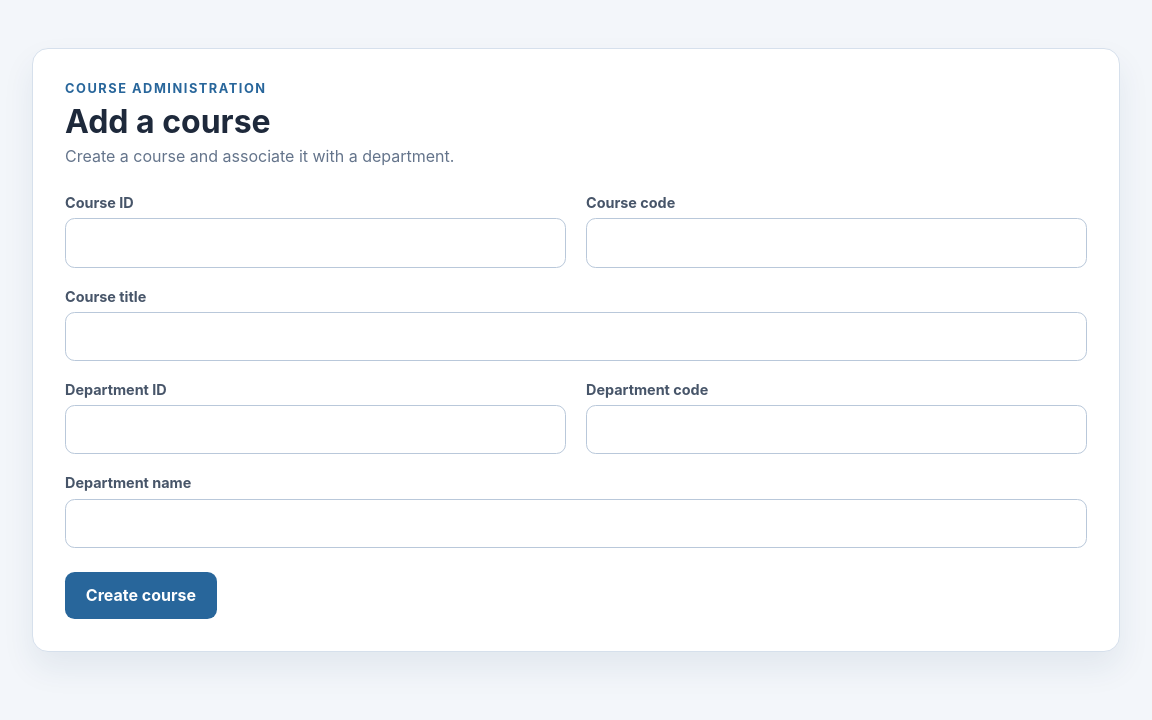
Test: CourseForm › submits the course and reports successful creation
The width and height of the screenshot is (1152, 720).
Type "9011" into the number field labelled "Course ID" at (316, 243), box [65,218,566,268]
Type "TEST101" into the field labelled "Course code" at (836, 243), box [586,218,1087,268]
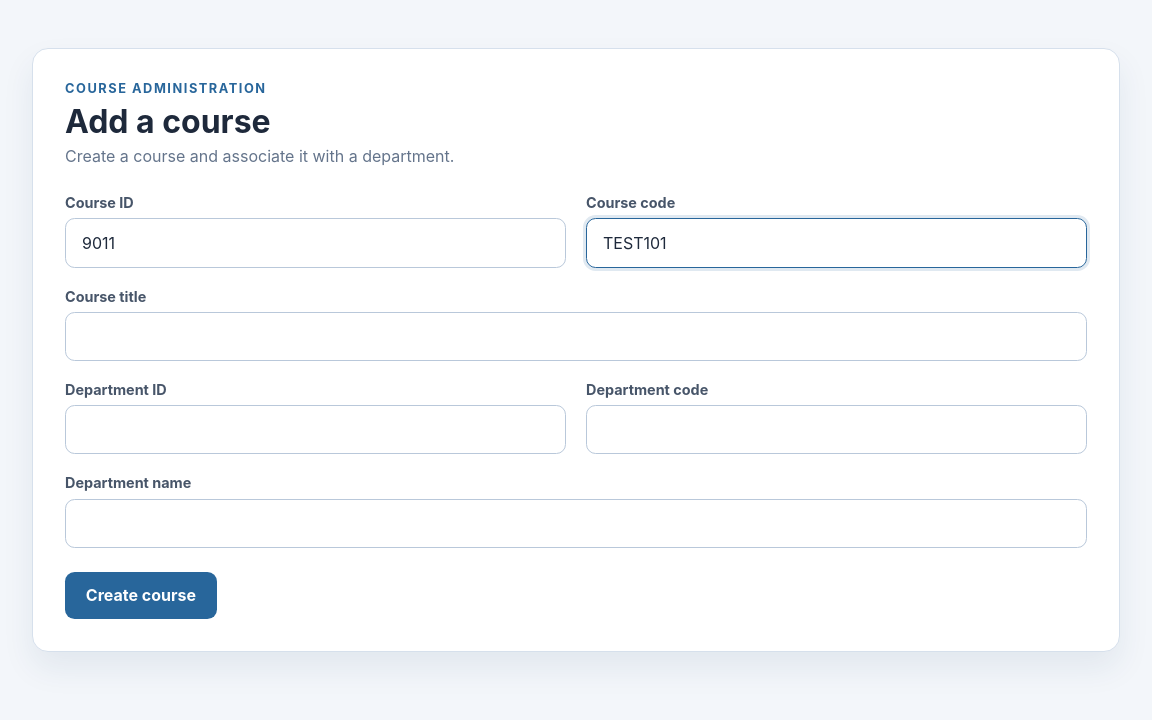
Type "Frontend Testing" into the field labelled "Course title" at (576, 336), box [65,312,1087,361]
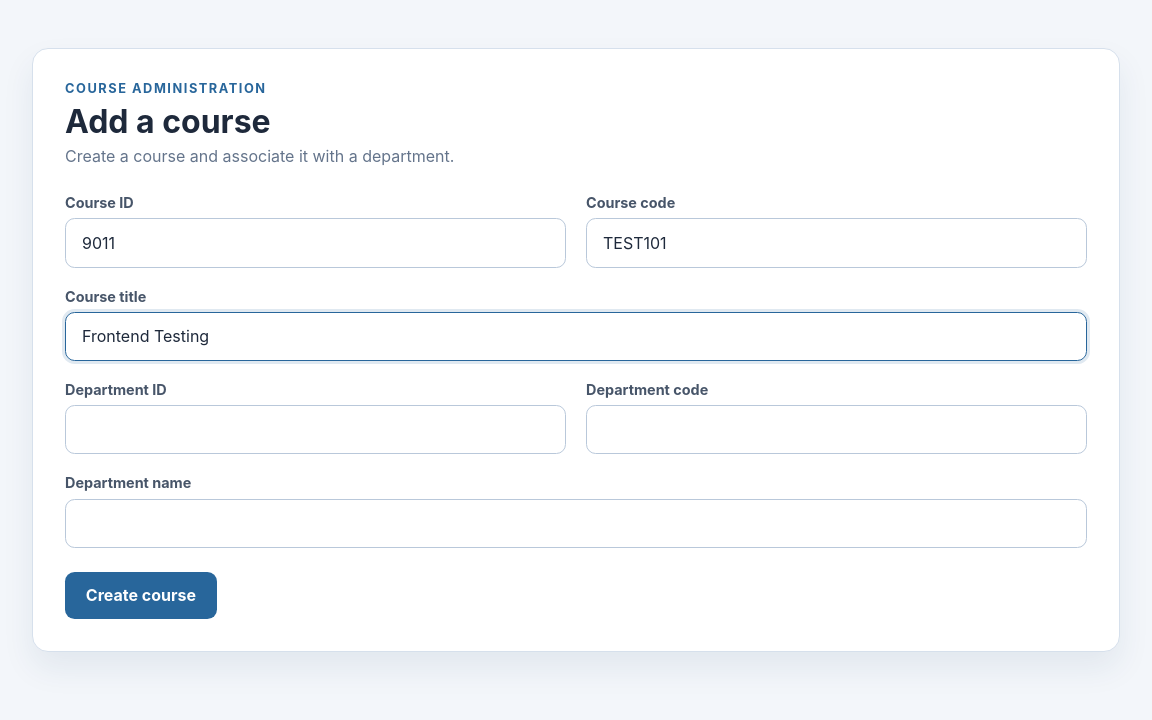
Type "900" into the number field labelled "Department ID" at (316, 430), box [65,405,566,454]
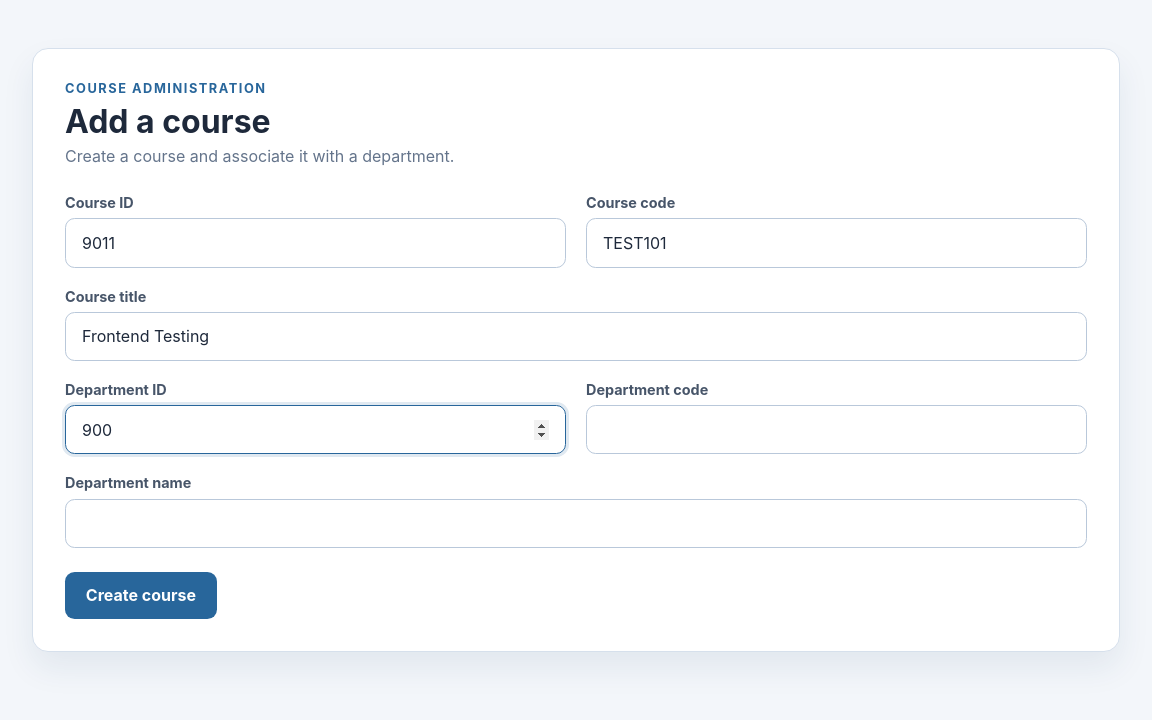
Type "MCA" into the field labelled "Department code" at (836, 430), box [586,405,1087,454]
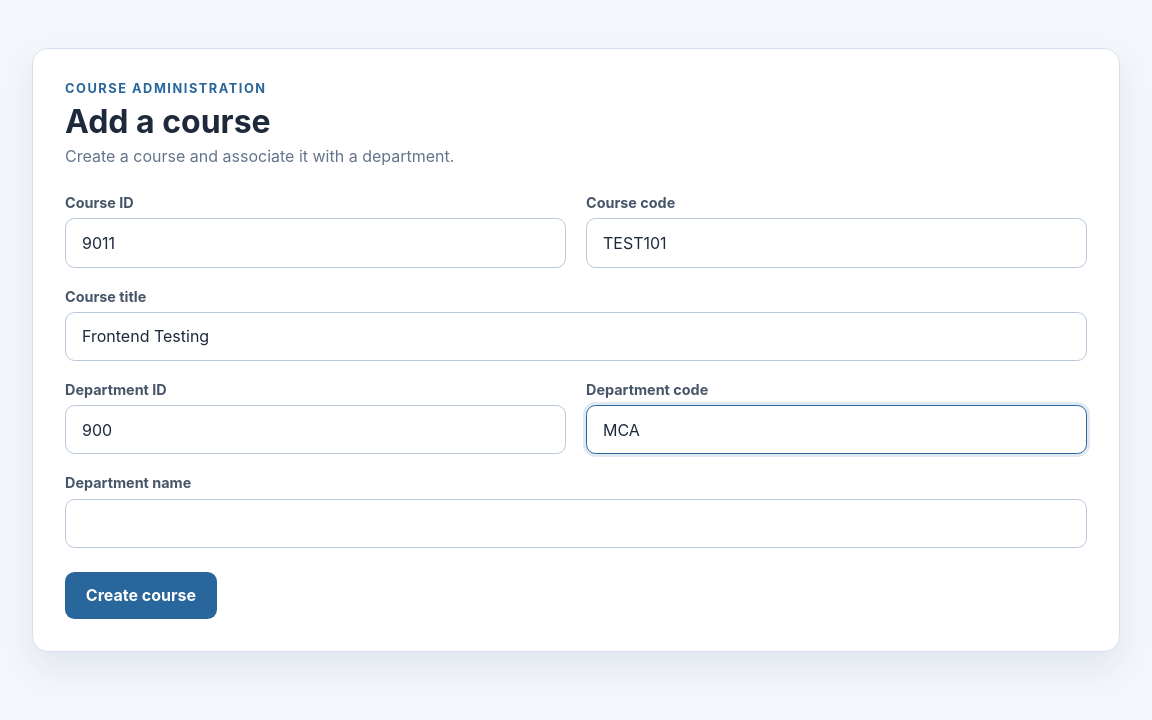
Type "Computer Applications" into the field labelled "Department name" at (576, 523), box [65,498,1087,548]
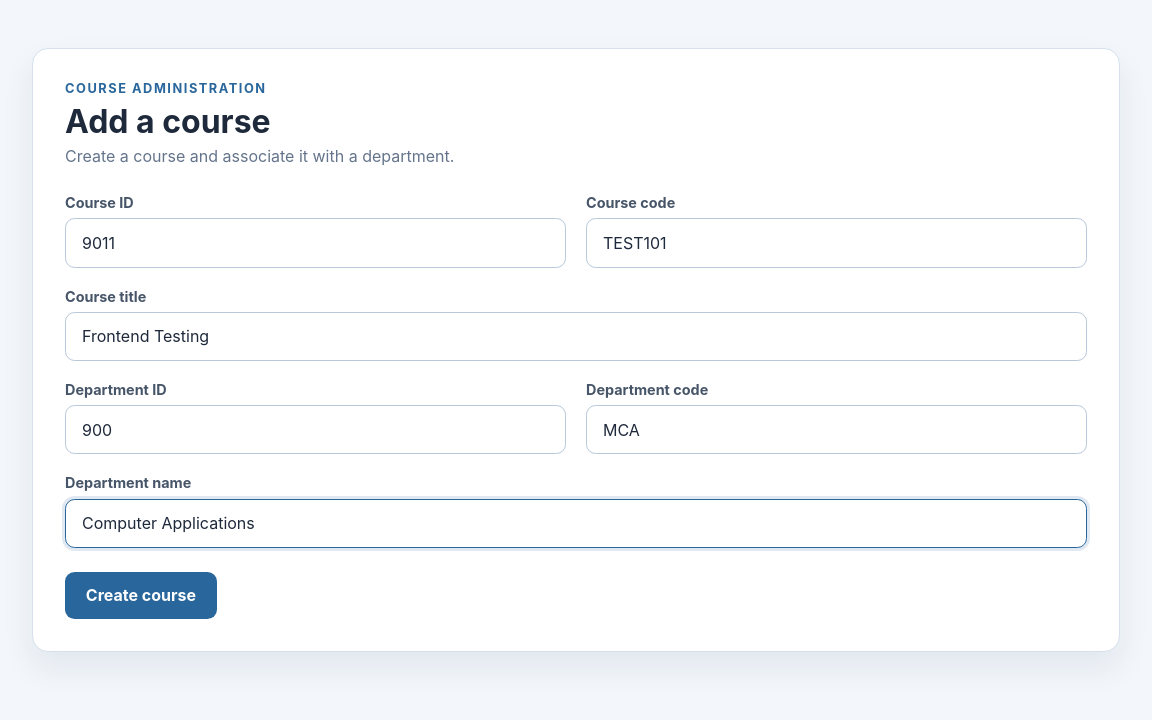
Click the button "Create course" at (141, 595), box [65,572,217,619]
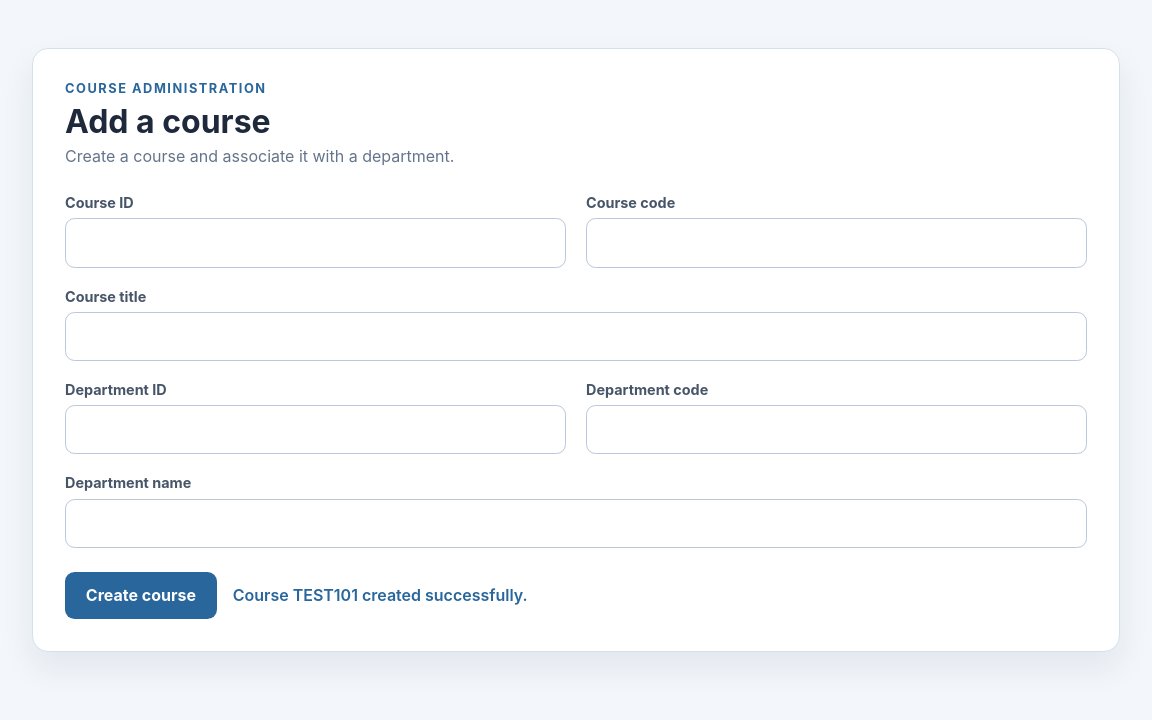
Result: the text "Course TEST101 created successfully." is shown at [233,585,528,605]
